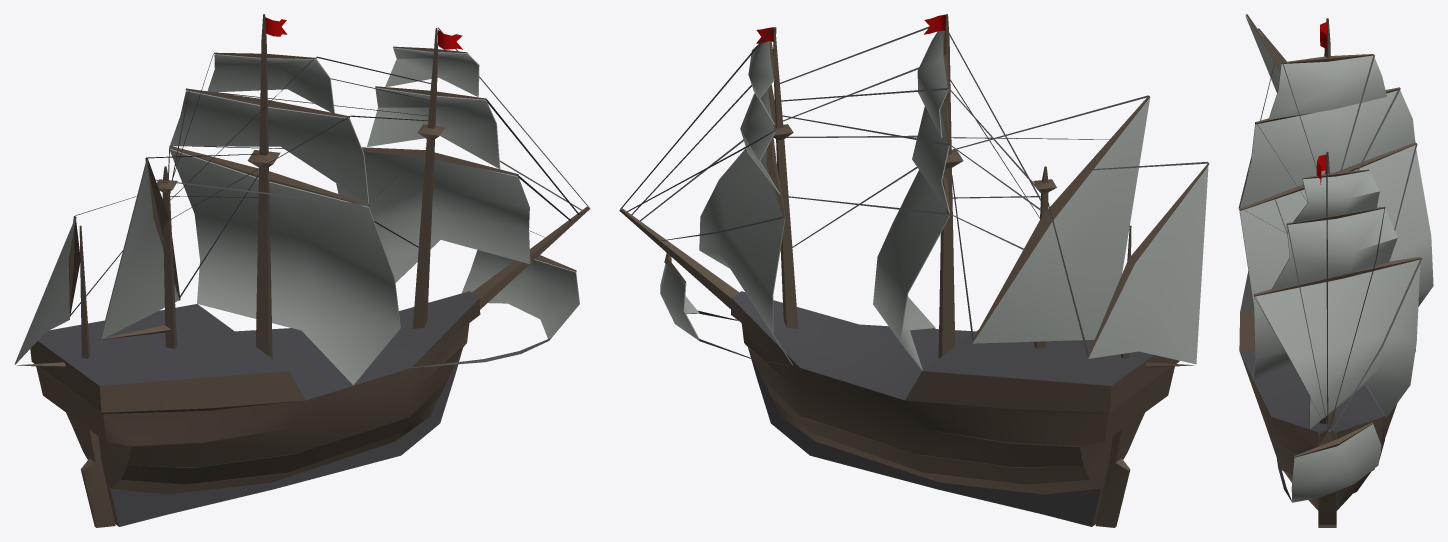
File: ship.glb
3 views of the same model, side by side, from view 1: azimuth 30°, elevation 25°; view 2: azimuth 150°, elevation 25°; view 3: azimuth 270°, elevation 25° (orthographic). The views are drawn at different scales.
Visible parts, largest first — view 1: ship; view 2: ship; view 3: ship.
Part boxes in pixels (box(x1,y1,x2,y2)): ship: box(14, 14, 590, 527); ship: box(619, 14, 1209, 527); ship: box(1238, 14, 1433, 527).
Bounding box in the file's own units: 9.75 × 7.64 × 3.
Materials: 1 (1 with a texture image).
